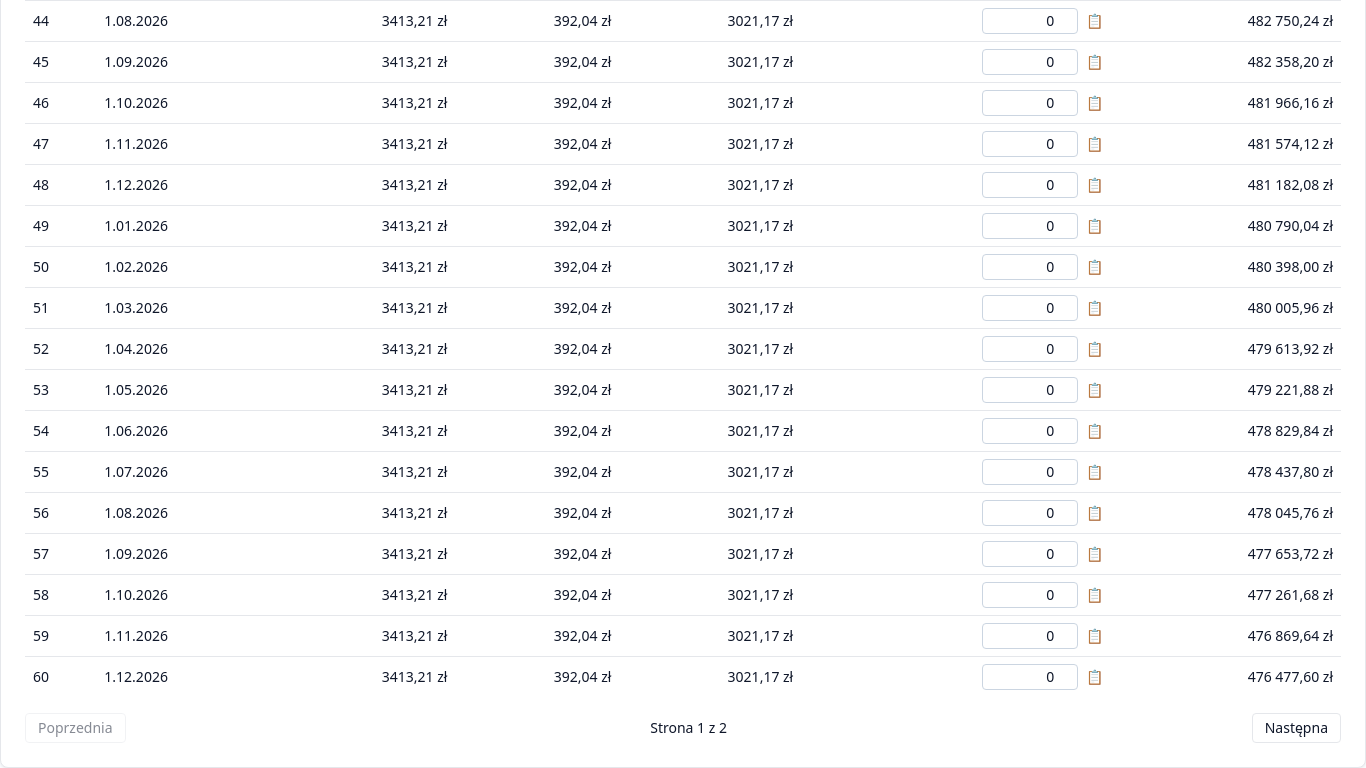
Test case: ScheduleTable › navigates to next page
(page scrolled)
Click the button "Następna" at coordinates (1296, 728), box [1252,713,1341,743]
(page scrolled)
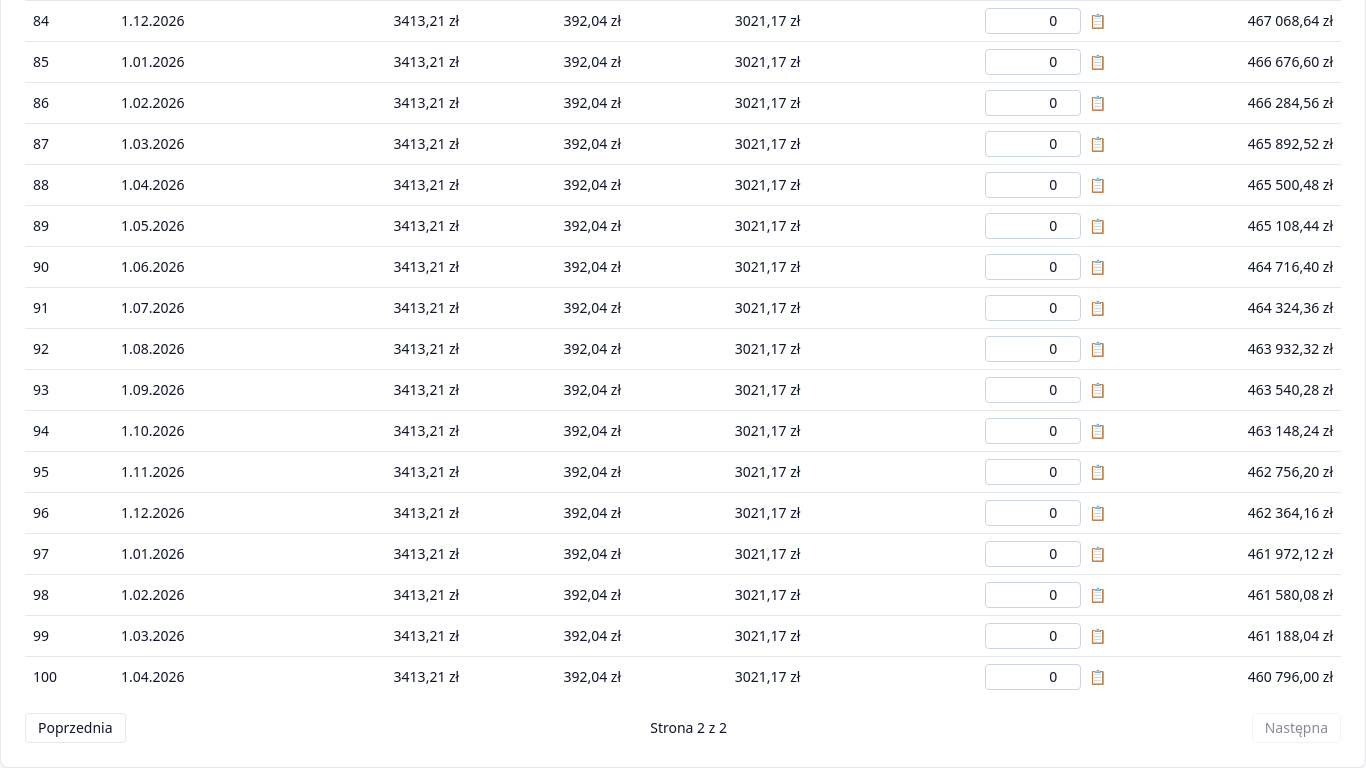
Expected: the text "Strona 2 z 2" is shown, [650,718,727,738]
